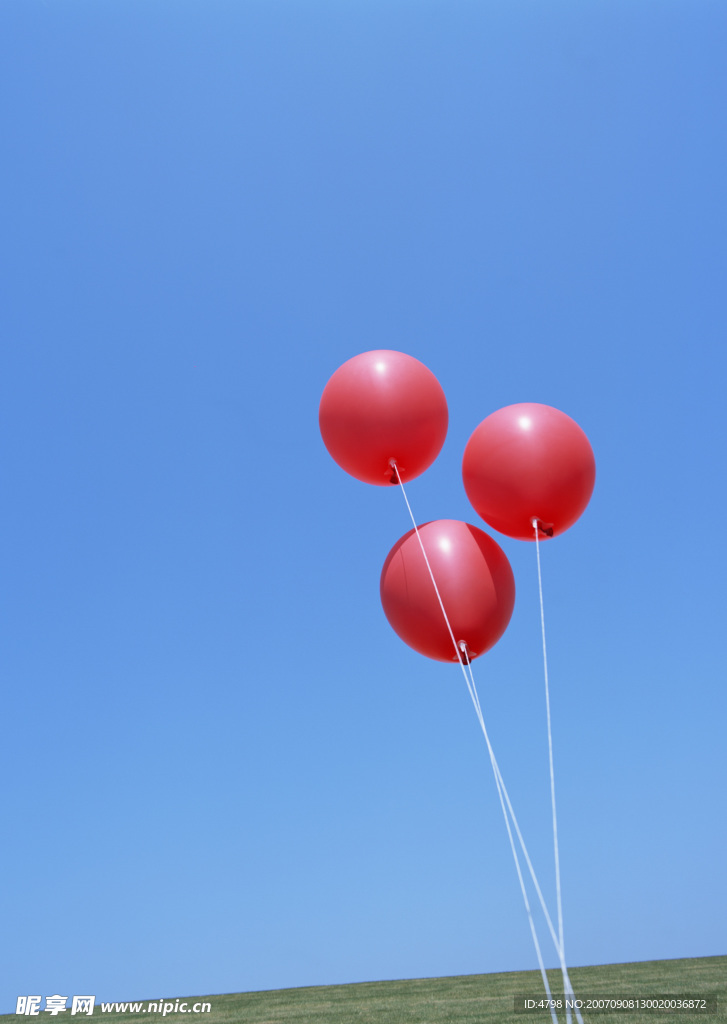balloon: (380, 520, 514, 662), (462, 403, 594, 540), (319, 350, 447, 486)
